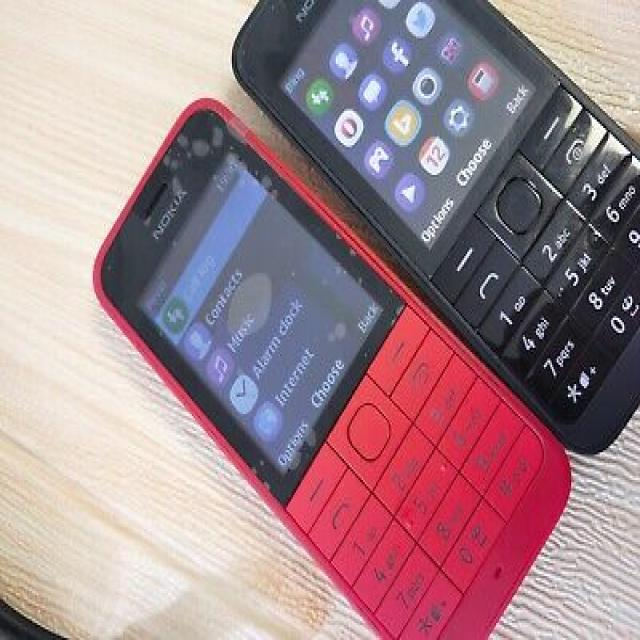mobile phone: (90, 94, 572, 638), (228, 0, 638, 454)
